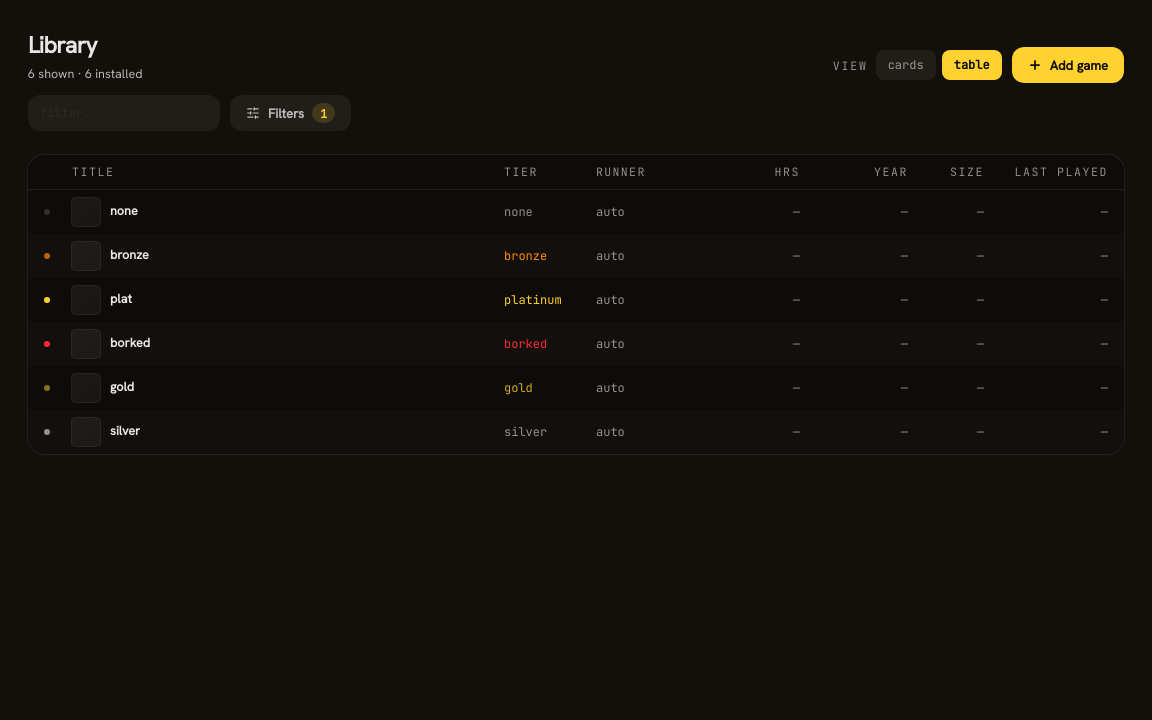
Scenario: Library sort › table tier header sorts and the toolbar control stays in sync
The image size is (1152, 720).
Click the button "Filters 1". click: x=291, y=113
box: left=230, top=95, right=351, bottom=131
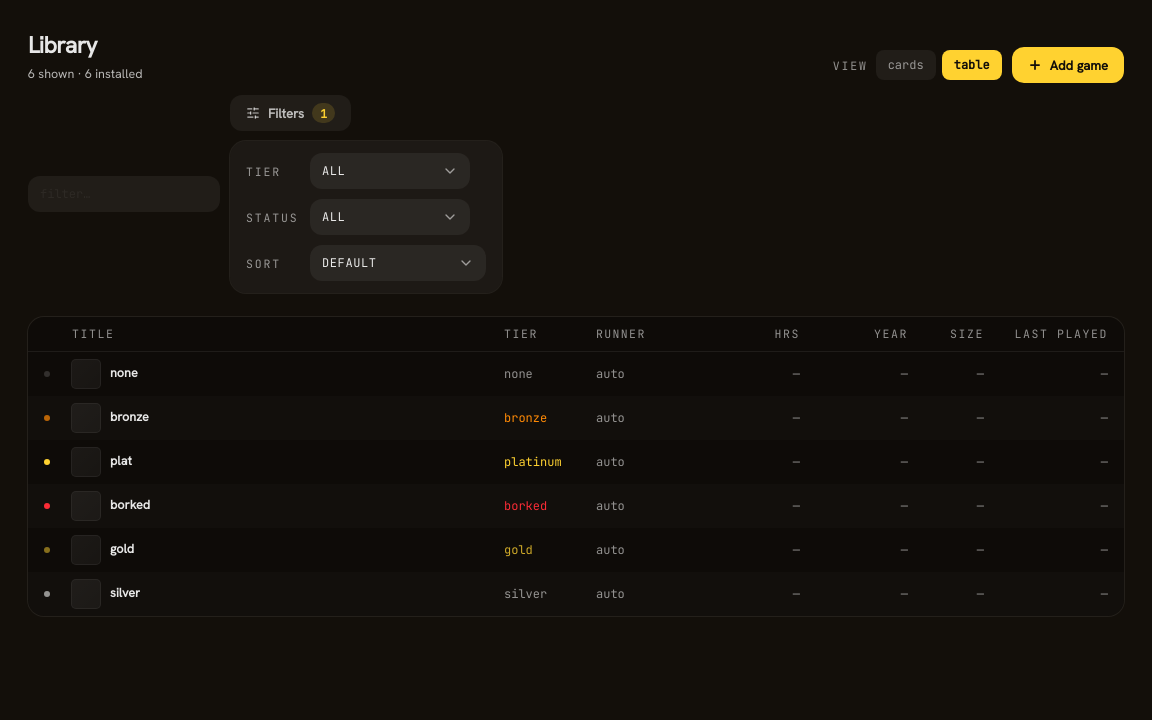
Click the button "tier". click: x=521, y=334
box: left=504, top=325, right=538, bottom=343
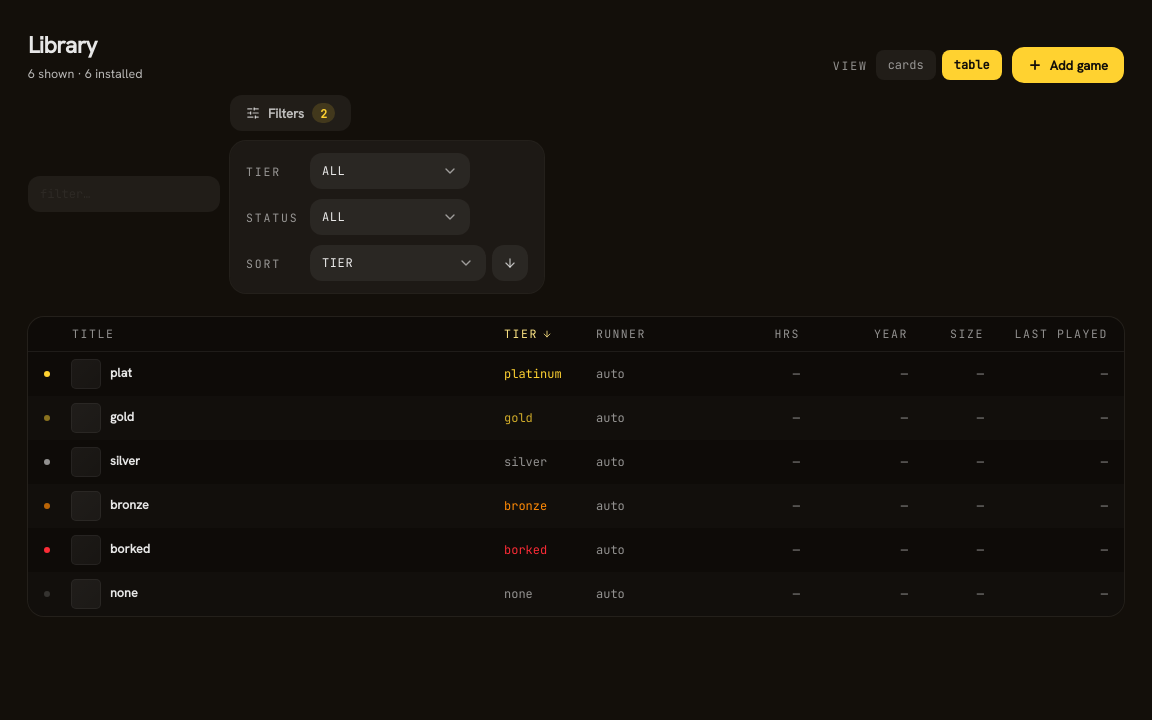
Expected: the text "plat" is shown, left=110, top=364, right=132, bottom=383
Now the dropdown named "Sort by" reads "tier", box left=310, top=245, right=486, bottom=281
